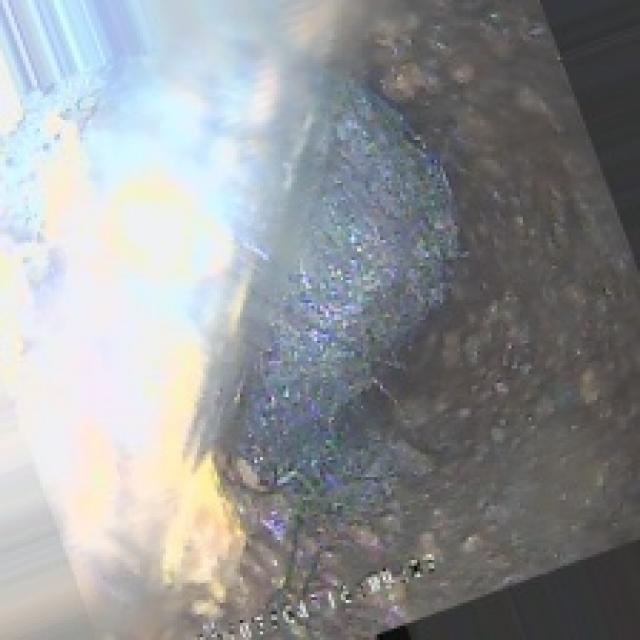Root_blockage: (217, 69, 457, 457)
